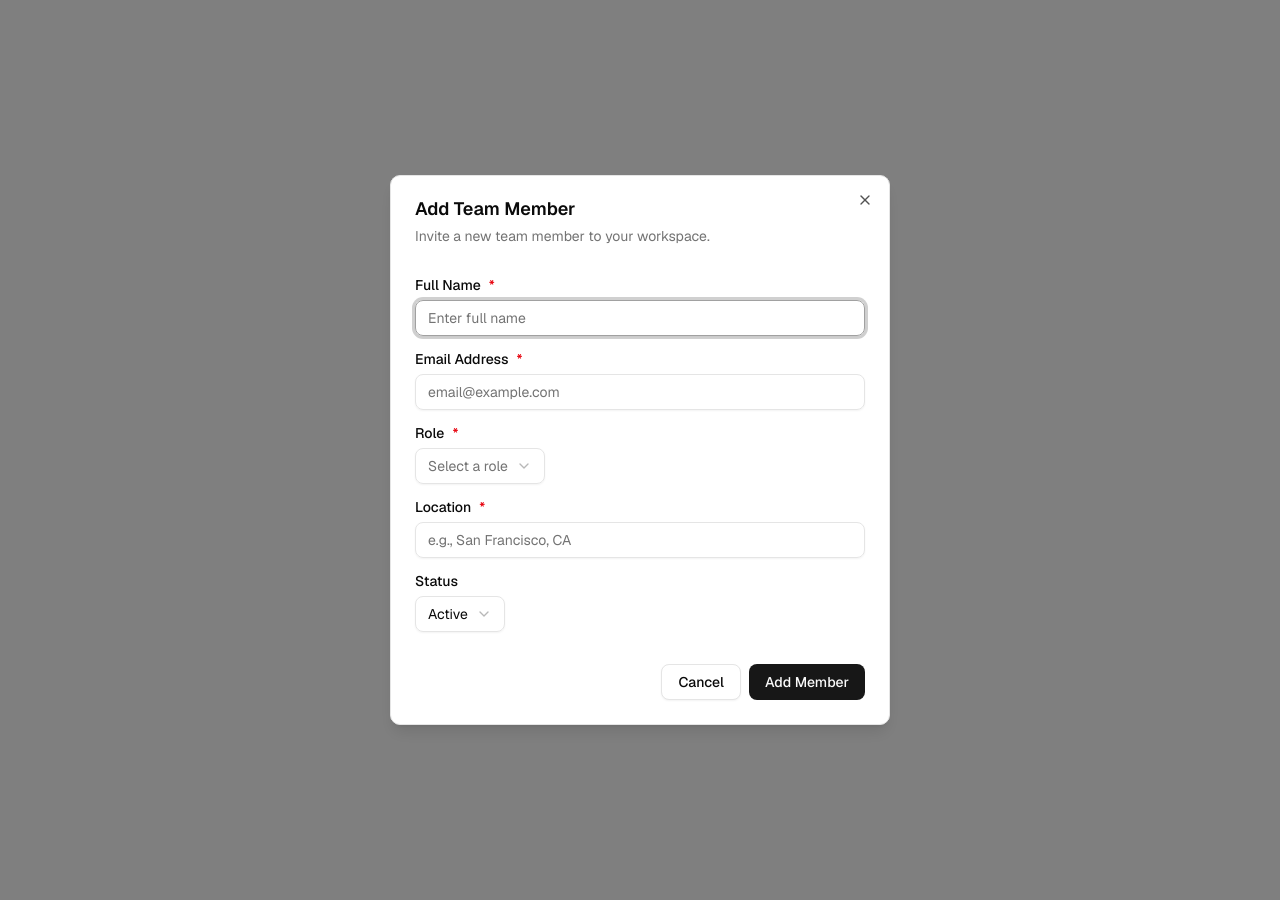
Test: AddTeamMemberDialog › validates required fields - name
Click the button "Add Member".
click(807, 682)  # box [749,664,865,700]
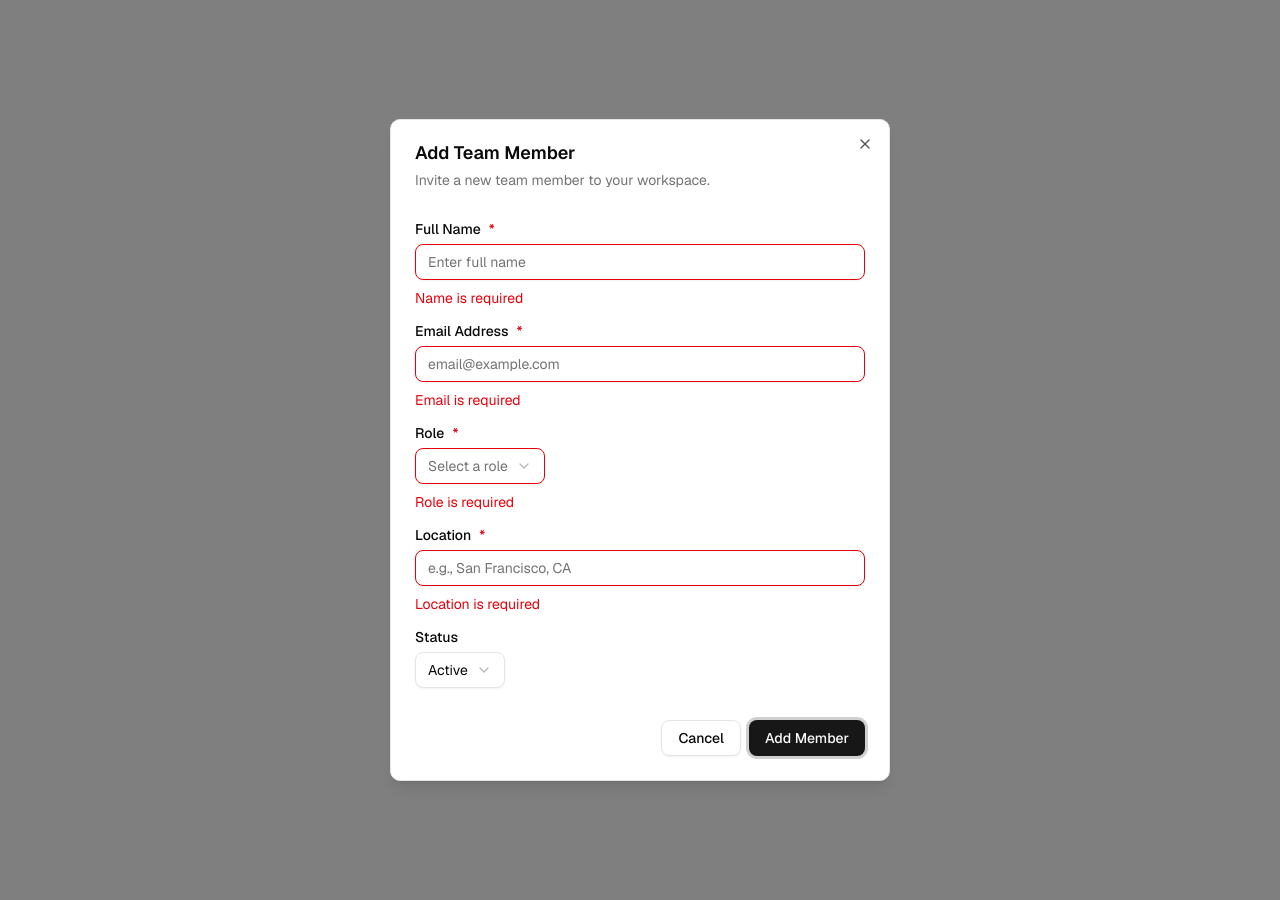
Check: the text "Name is required" is shown, box [415,289,523,307]
